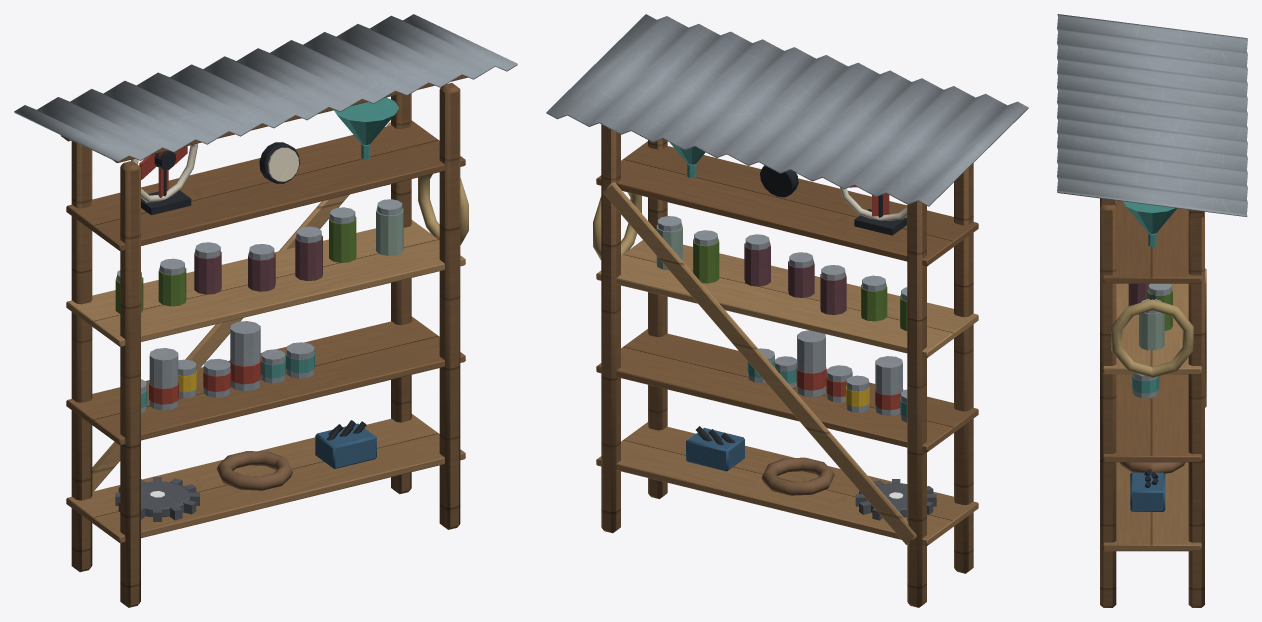
The model's file is junk_shelf.glb.
3 renders of one model, left to right at view 1: azimuth 30°, elevation 25°; view 2: azimuth 150°, elevation 25°; view 3: azimuth 270°, elevation 25°, orthographic. The views are drawn at different scales.
Parts seen in each view (by area): view 1: junk_shelf; view 2: junk_shelf; view 3: junk_shelf.
Boxes of the visible parts, x1,y1,x2,y2 form: junk_shelf: (14,14,517,607); junk_shelf: (546,14,1028,607); junk_shelf: (1057,14,1247,607).
Size of the model in its own units: 1.8 by 2.06 by 0.8172.
23 materials, 23 textured.
